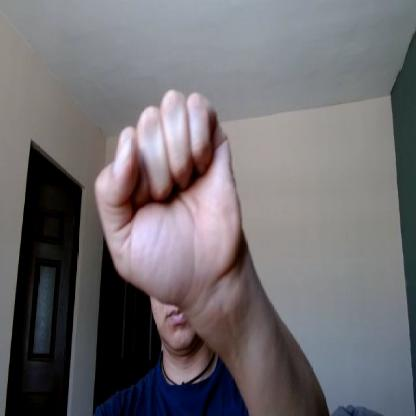S: (94, 86, 244, 304)
